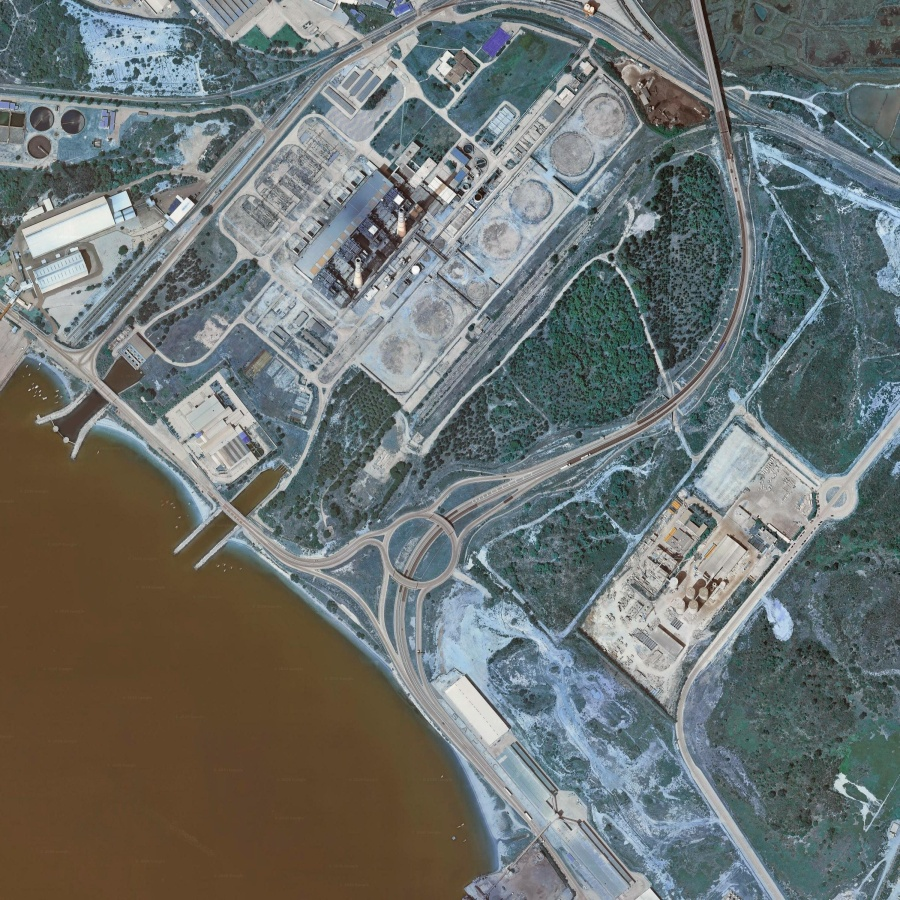PowerPlant: (254, 40, 628, 381)
